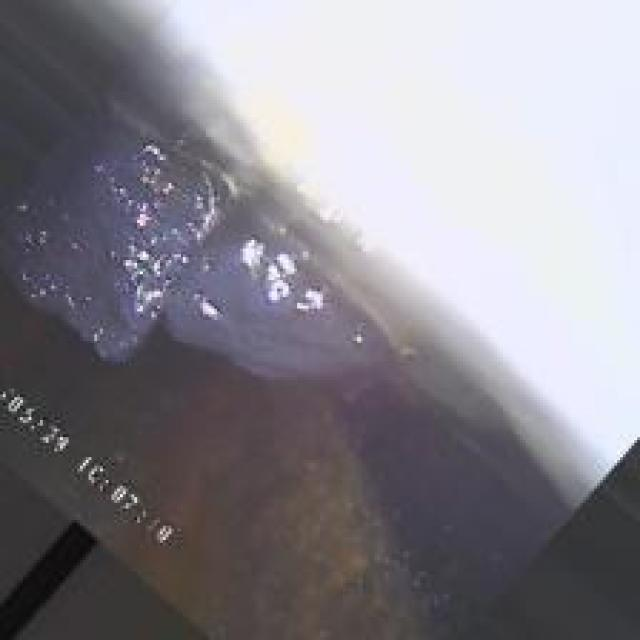stone: (34, 126, 389, 414)
